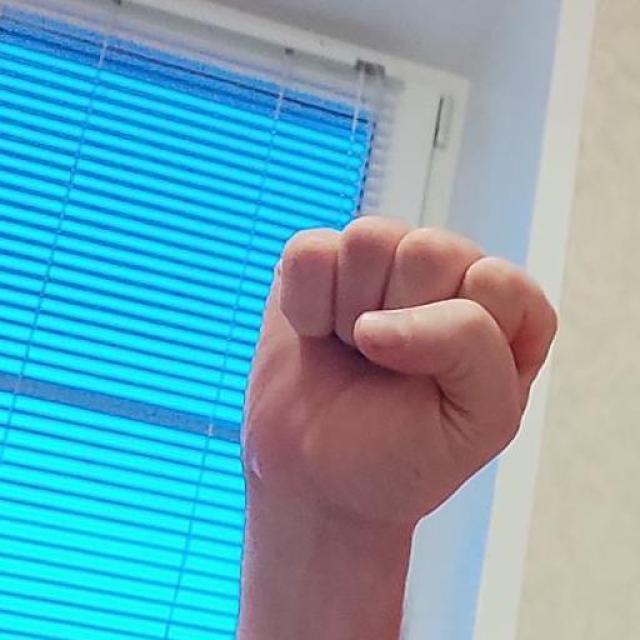hand: (231, 213, 559, 515)
